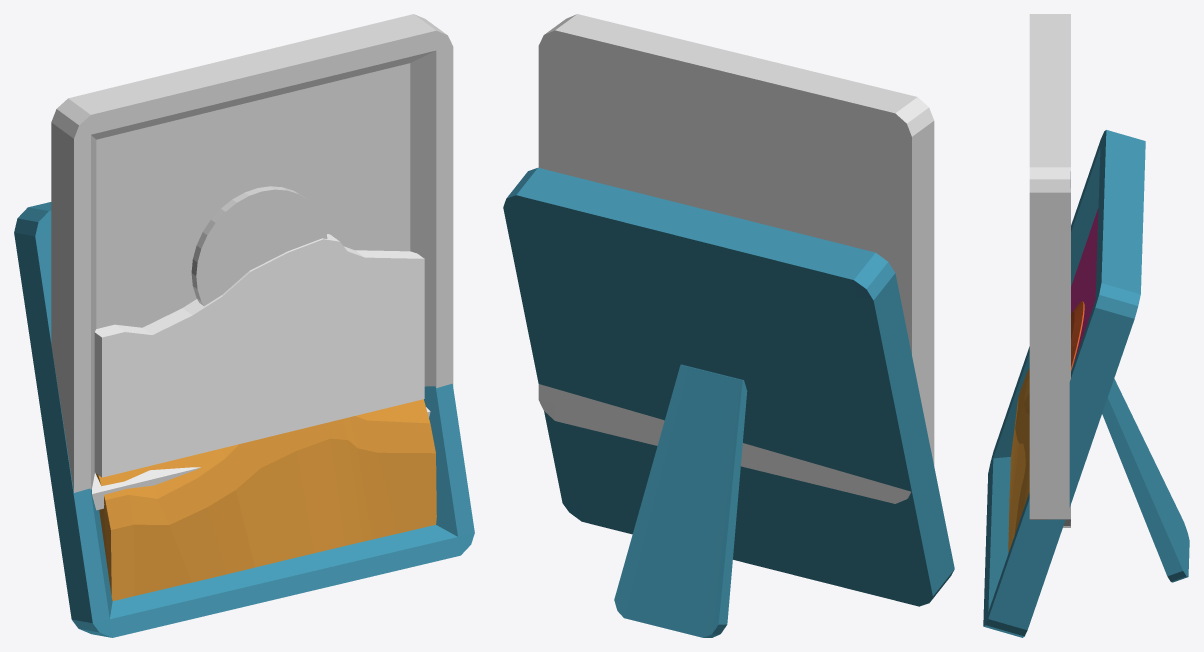
Rendered from goodspot.glb.
3 views of the same model, side by side, from view 1: azimuth 30°, elevation 25°; view 2: azimuth 150°, elevation 25°; view 3: azimuth 270°, elevation 25° (orthographic). The views are drawn at different scales.
Visible parts, largest first — view 1: Cube003, Cube006, Cube002, Cube010; view 2: Cube010, Cube003, Cube010_1, Cube006; view 3: Cube006, Cube003, Cube010, Cube010_1, Cube007.
Part boxes in pixels (left/top/right/bottom): Cube003: left=51, top=14, right=453, bottom=510; Cube006: left=14, top=210, right=474, bottom=637; Cube002: left=94, top=234, right=424, bottom=477; Cube010: left=14, top=202, right=474, bottom=637; Cube010: left=503, top=167, right=952, bottom=606; Cube003: left=538, top=14, right=934, bottom=503; Cube010_1: left=614, top=364, right=744, bottom=637; Cube006: left=516, top=225, right=954, bottom=637; Cube006: left=983, top=130, right=1189, bottom=626; Cube003: left=1029, top=14, right=1070, bottom=527; Cube010: left=983, top=130, right=1145, bottom=637; Cube010_1: left=1105, top=378, right=1187, bottom=582; Cube007: left=1071, top=301, right=1084, bottom=370.
Size of the model in its own units: 3.32 by 4.35 by 1.71.
